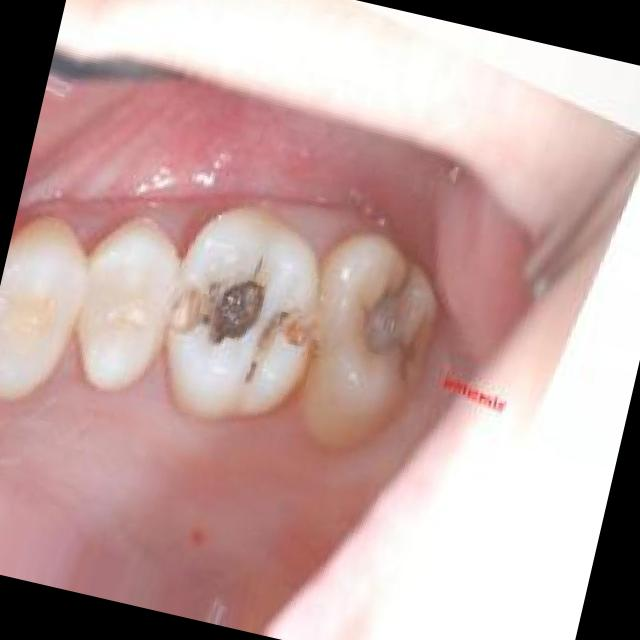caries: (184, 250, 301, 386), (343, 263, 442, 401)
